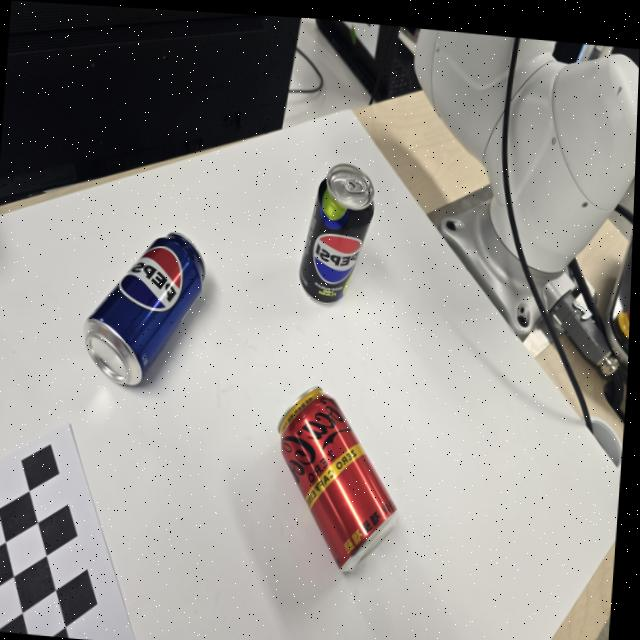can_coke_decaf: (277, 386, 398, 572)
can_pepsi: (83, 231, 205, 386)
can_pepsi_zero: (298, 162, 374, 302)
